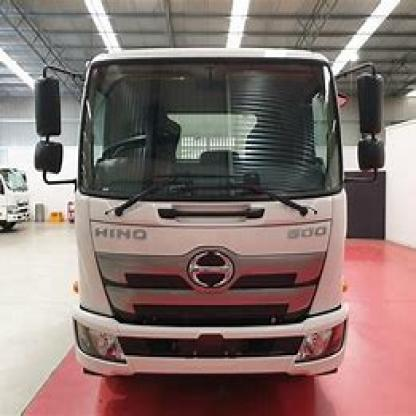dump_truck: (35, 26, 405, 386)
